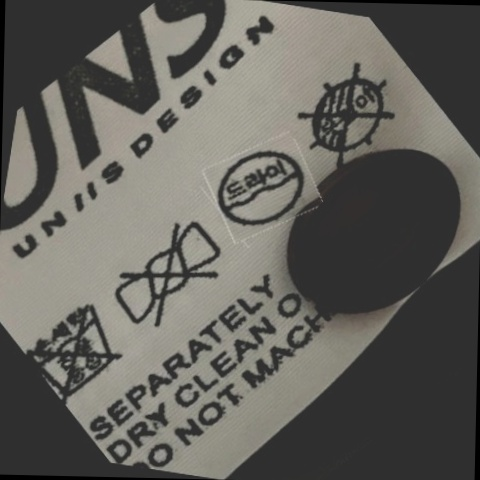DN_dry: (294, 62, 399, 169)
DN_wring: (109, 218, 227, 336)
dry_clean: (215, 140, 309, 238)
hand_wash: (29, 292, 128, 401)
